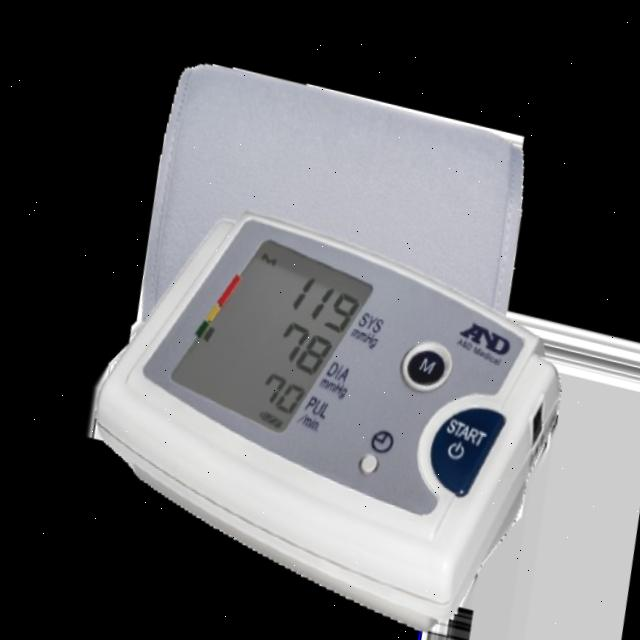dia: (261, 312, 334, 381)
pul: (241, 357, 304, 418)
ssd: (168, 218, 370, 441)
sys: (278, 260, 360, 337)
